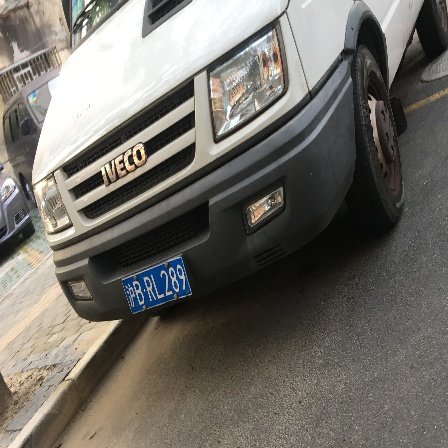plate: (121, 264, 195, 315)
